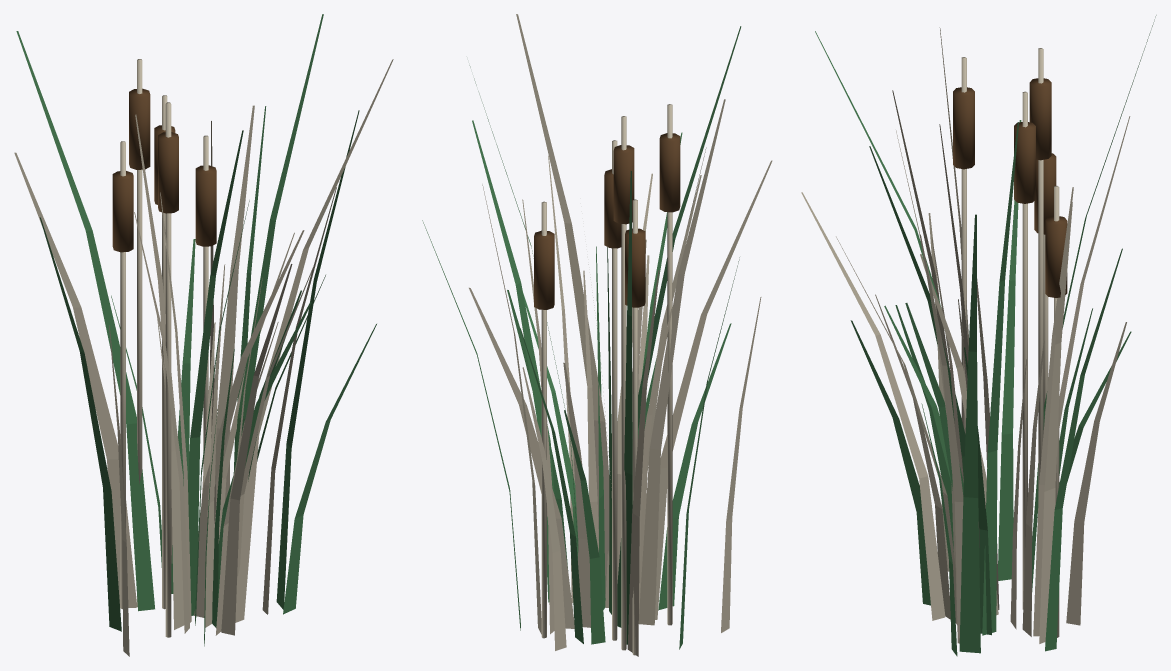
The model's file is hood_reeds.glb.
3 renders of one model, left to right at view 1: azimuth 30°, elevation 25°; view 2: azimuth 150°, elevation 25°; view 3: azimuth 270°, elevation 25°, orthographic. The views are drawn at different scales.
Parts seen in each view (by area): view 1: blades.003, blades.001, cattail.005, blades.002; view 2: blades.003, blades.001, cattail.005, blades.002; view 3: blades.001, blades.003, blades.002, cattail.005.
Part boxes in pixels (x1=…): blades.003: x1=14, y1=59, x2=393, y2=656; blades.001: x1=16, y1=14, x2=376, y2=646; cattail.005: x1=112, y1=88, x2=216, y2=252; blades.002: x1=171, y1=105, x2=313, y2=580; blades.003: x1=516, y1=14, x2=772, y2=656; blades.001: x1=422, y1=26, x2=741, y2=649; cattail.005: x1=534, y1=133, x2=680, y2=309; blades.002: x1=469, y1=173, x2=652, y2=650; blades.001: x1=815, y1=15, x2=1156, y2=656; blades.003: x1=801, y1=27, x2=1130, y2=643; blades.002: x1=836, y1=202, x2=1126, y2=643; cattail.005: x1=953, y1=78, x2=1067, y2=297.
Bounding box in the file's own units: 0.9422 × 1.7 × 0.968.
